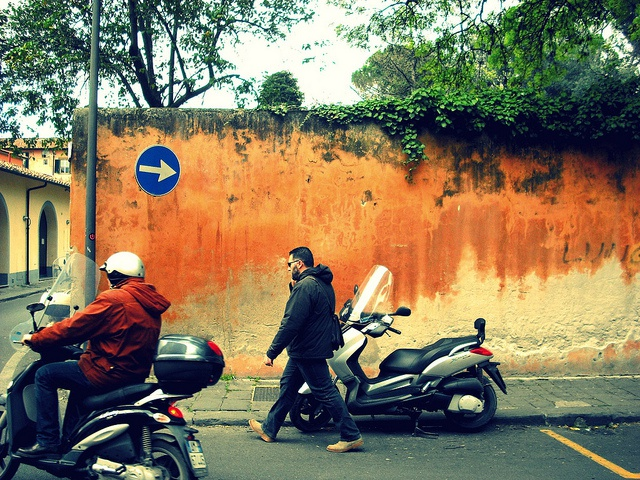non-vehicle: (290, 265, 505, 435), (0, 345, 211, 474)
